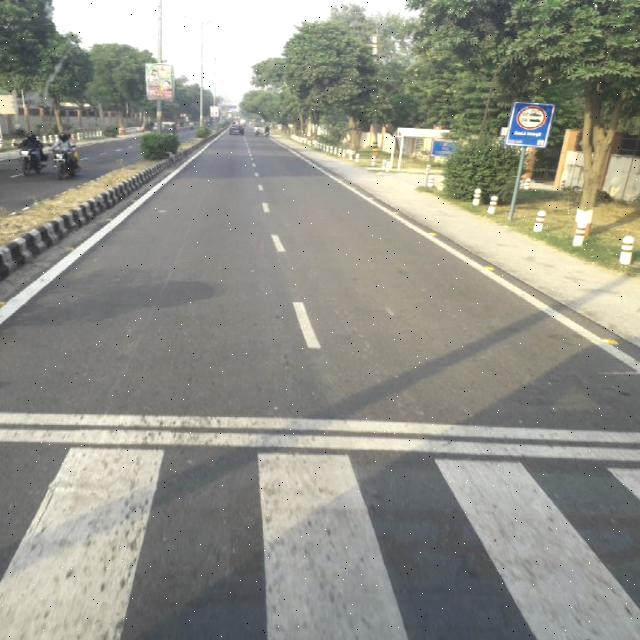D00: (108, 196, 212, 406)
